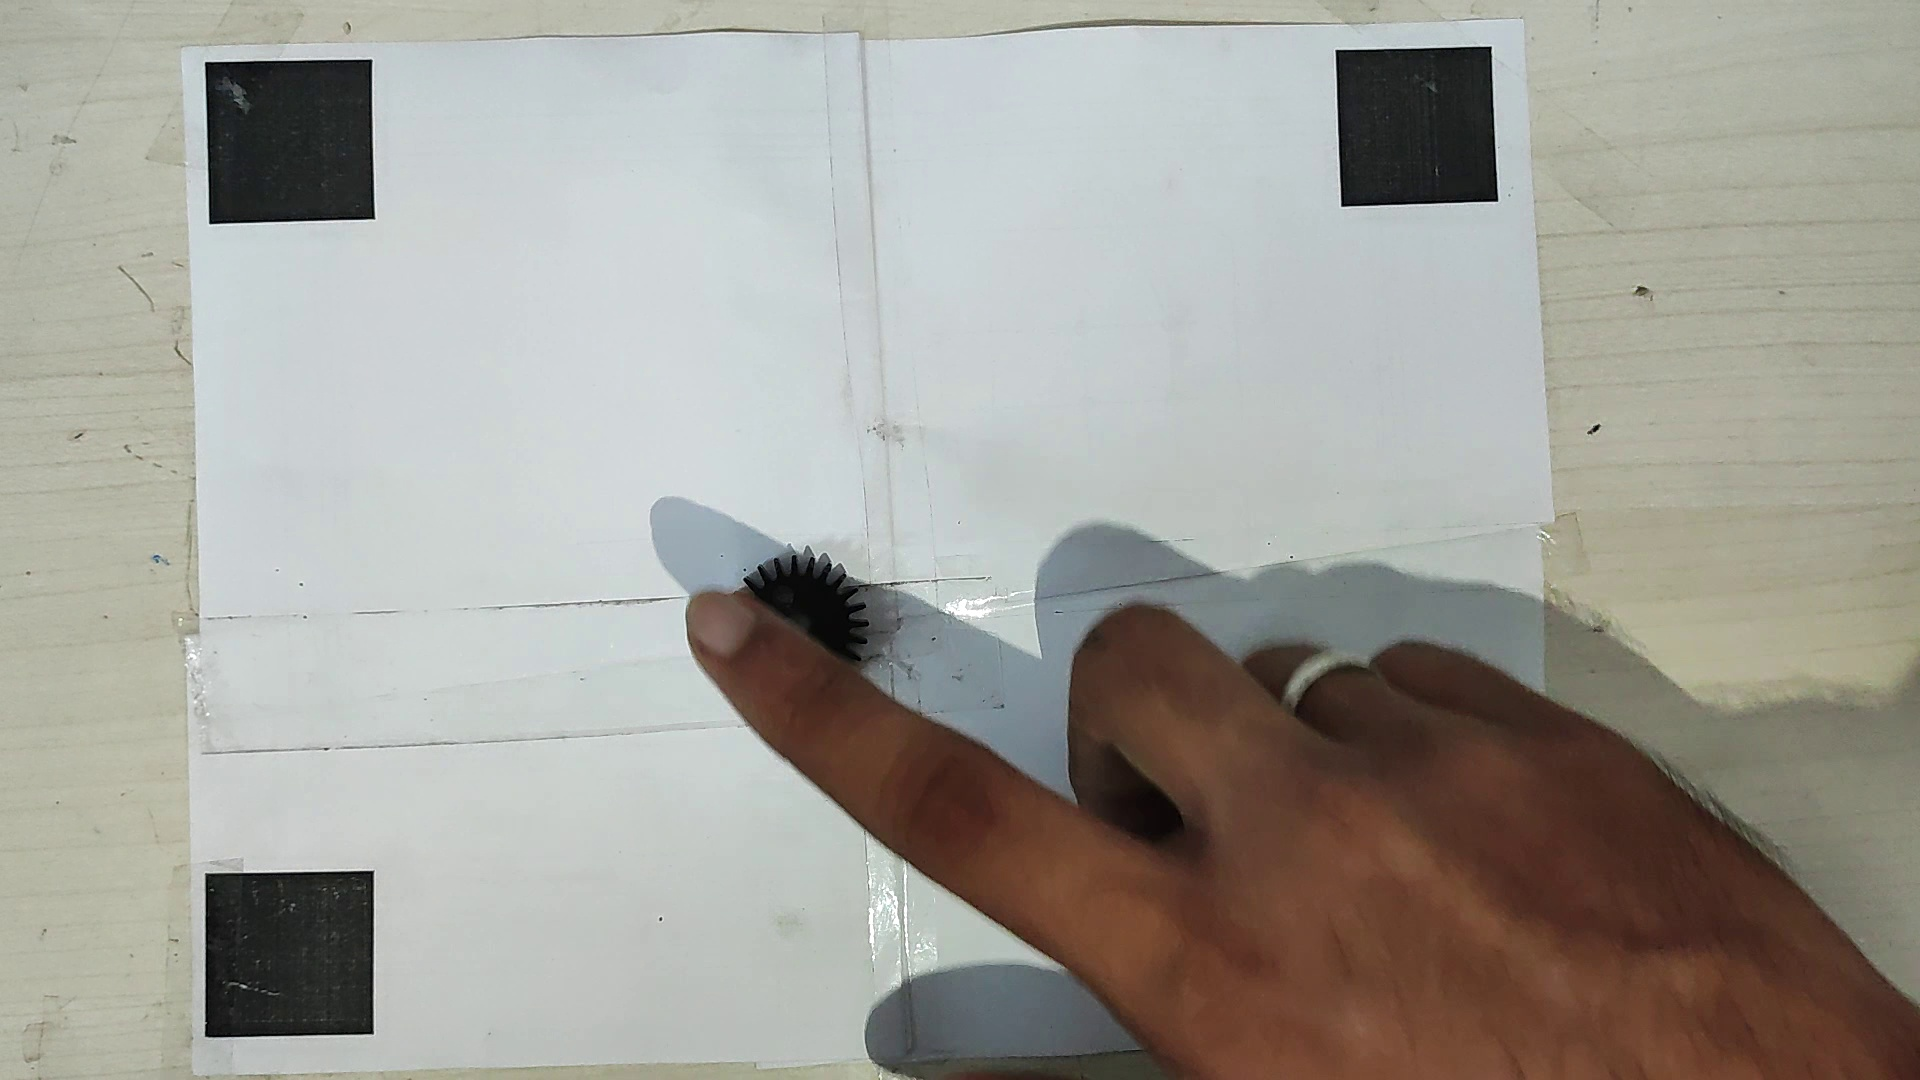Gear: (732, 545, 877, 687)
